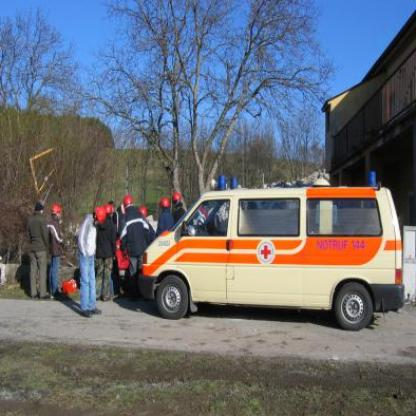truck: (140, 171, 405, 332)
